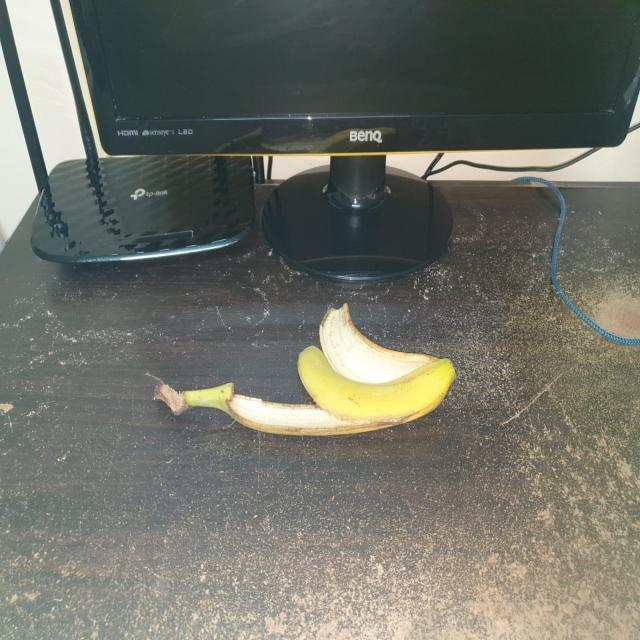banana-peel: (147, 301, 456, 437)
